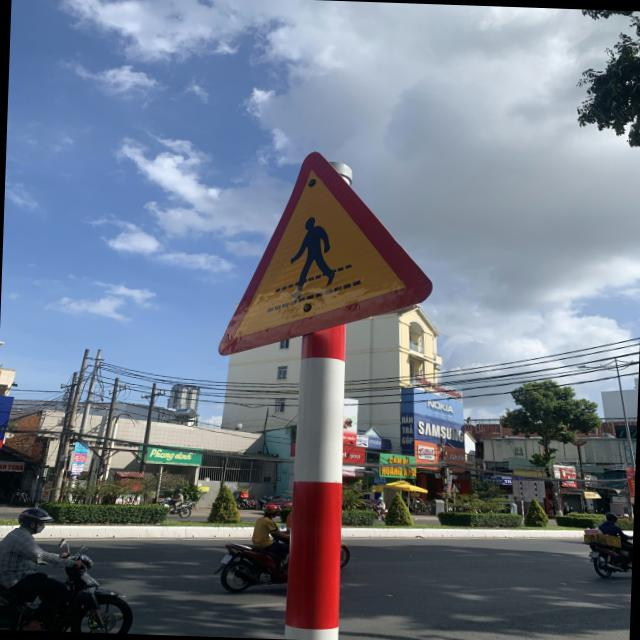Duong_Nguoi_Di_Bo_Sang_Ngang: (216, 146, 438, 364)
